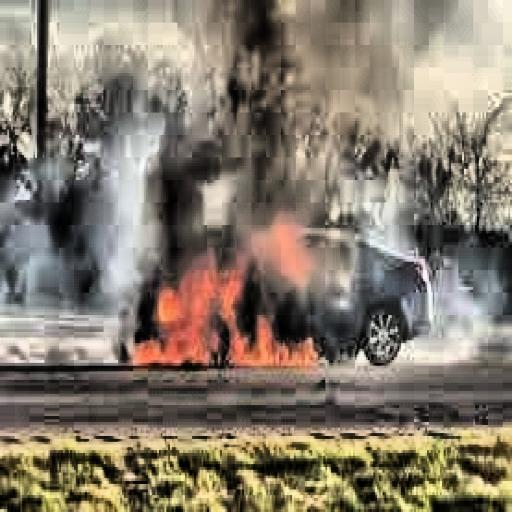fire: (118, 253, 318, 391), (251, 217, 316, 287)
